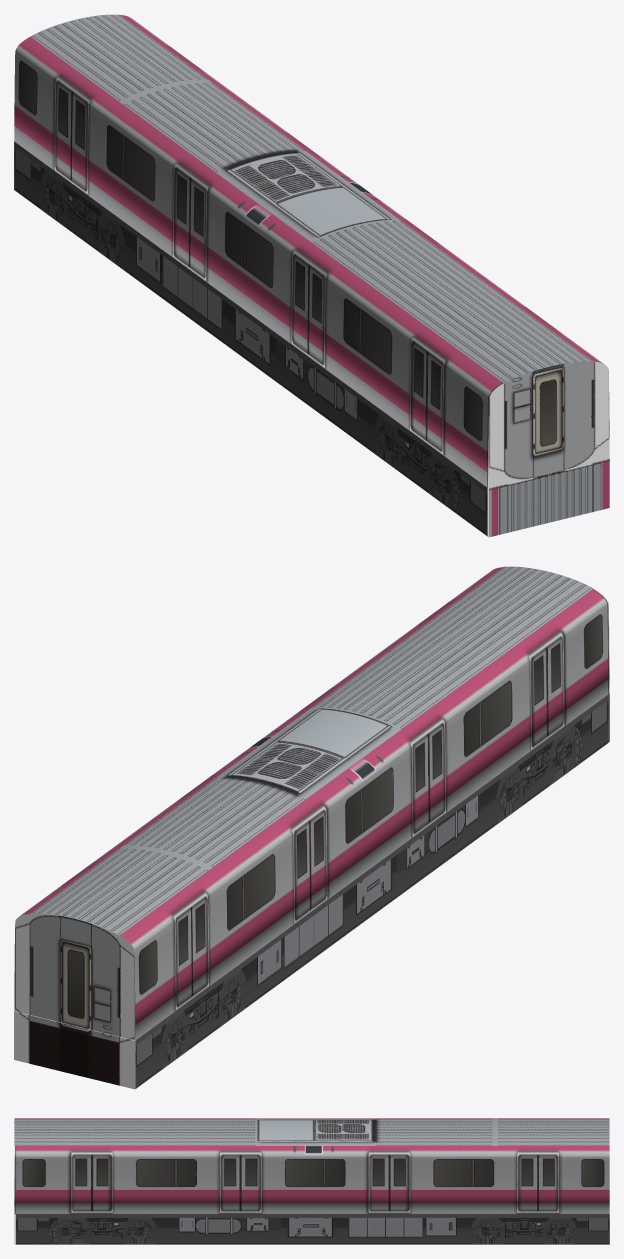
Rendered from car2.glb.
3 renders of one model, top to bottom at view 1: azimuth 30°, elevation 25°; view 2: azimuth 150°, elevation 25°; view 3: azimuth 270°, elevation 25°, orthographic. The views are drawn at different scales.
Parts seen in each view (by area): view 1: jr-east-e233-5000-car2; view 2: jr-east-e233-5000-car2; view 3: jr-east-e233-5000-car2.
Part boxes in pixels (<box>): jr-east-e233-5000-car2: <box>14,14,609,537</box>; jr-east-e233-5000-car2: <box>14,566,609,1089</box>; jr-east-e233-5000-car2: <box>14,1118,609,1244</box>.
Bounding box in the file's own units: 2.95 × 3.62 × 20.03.
Materials: 9 (8 with a texture image).
